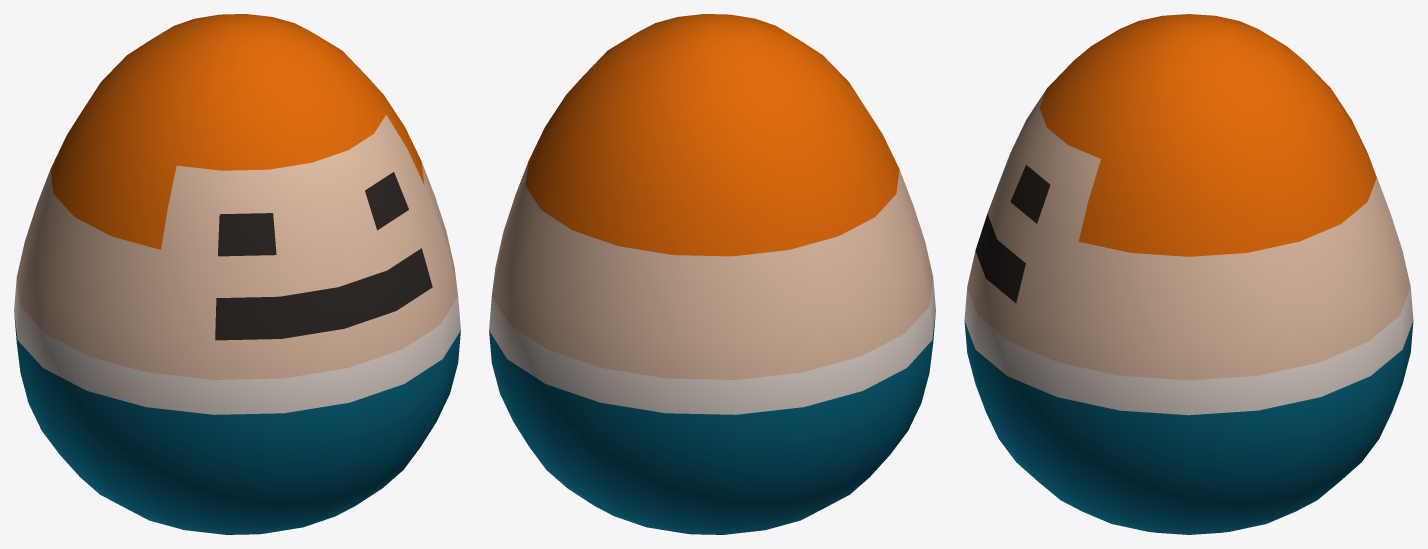
Rendered from weeblkingtoo.fbx.
3 renders of one model, left to right at view 1: azimuth 30°, elevation 25°; view 2: azimuth 150°, elevation 25°; view 3: azimuth 270°, elevation 25°, orthographic.
Parts seen in each view (by area): view 1: pSphere1; view 2: pSphere1; view 3: pSphere1.
Part boxes in pixels (x1=…): pSphere1: x1=14, y1=14, x2=460, y2=534; pSphere1: x1=489, y1=14, x2=935, y2=534; pSphere1: x1=964, y1=14, x2=1413, y2=534.
Size of the model in its own units: 80.2 by 94.76 by 80.2.
